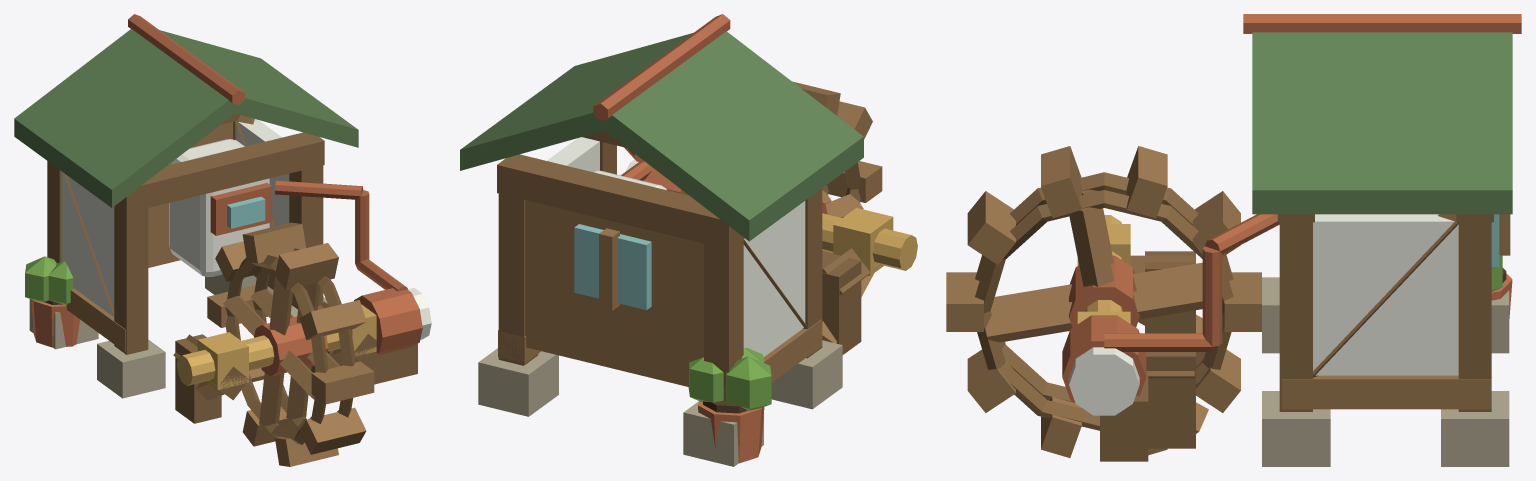
Rendered from water_wheel.glb.
The picture shows the model from 3 angles, left to right: view 1: azimuth 30°, elevation 25°; view 2: azimuth 150°, elevation 25°; view 3: azimuth 270°, elevation 25°; orthographic projection. The views are drawn at different scales.
Visible parts, largest first — view 1: move_spin_wheel, Waterwheel_moss_roof_left, Waterwheel_dynamo_and_conduit, Waterwheel_front_lintel, Waterwheel_moss_roof_right, Waterwheel_bank_bearings, Waterwheel_side_wall, Waterwheel_control_cabinet, Waterwheel_timber_post, Waterwheel_stone_shoe, Waterwheel_copper_ridge, Waterwheel_axle (+13 smaller); view 2: Waterwheel_moss_roof_left, Waterwheel_back_wall, Waterwheel_back_lintel, Waterwheel_moss_roof_right, Waterwheel_side_wall, Waterwheel_bank_bearings, Waterwheel_timber_post.001, Waterwheel_timber_post.003, Waterwheel_back_window, Waterwheel_stone_shoe.003, move_spin_wheel, Waterwheel_stone_shoe (+13 smaller); view 3: Waterwheel_moss_roof_right, move_spin_wheel, Waterwheel_side_wall.001, Waterwheel_dynamo_and_conduit, Waterwheel_bank_bearings, Waterwheel_side_sill.001, Waterwheel_timber_post.002, Waterwheel_timber_post.003, Waterwheel_copper_ridge, Waterwheel_stone_shoe.003, Waterwheel_stone_shoe.002, Waterwheel_stone_shoe (+2 smaller).
Part boxes in pixels (x1,y1,x2,y2): move_spin_wheel: (207, 222, 374, 466); Waterwheel_moss_roof_left: (14, 29, 235, 207); Waterwheel_dynamo_and_conduit: (275, 180, 431, 384); Waterwheel_front_lintel: (116, 132, 324, 212); Waterwheel_moss_roof_right: (160, 30, 358, 147); Waterwheel_bank_bearings: (173, 301, 378, 423); Waterwheel_side_wall: (61, 171, 114, 317); Waterwheel_control_cabinet: (169, 139, 269, 276); Waterwheel_timber_post: (114, 205, 148, 354); Waterwheel_stone_shoe: (97, 339, 165, 398); Waterwheel_copper_ridge: (128, 14, 244, 105); Waterwheel_axle: (177, 332, 340, 385); Waterwheel_moss_roof_left: (604, 31, 863, 241); Waterwheel_back_wall: (525, 200, 703, 386); Waterwheel_back_lintel: (497, 154, 744, 249); Waterwheel_moss_roof_right: (460, 33, 692, 170); Waterwheel_side_wall: (743, 201, 805, 357); Waterwheel_bank_bearings: (683, 191, 893, 354); Waterwheel_timber_post.001: (704, 239, 743, 400); Waterwheel_timber_post.003: (498, 193, 538, 365); Waterwheel_back_window: (574, 224, 651, 310); Waterwheel_stone_shoe.003: (478, 348, 558, 416); move_spin_wheel: (792, 81, 882, 257); Waterwheel_stone_shoe: (771, 340, 842, 409); Waterwheel_moss_roof_right: (1252, 32, 1512, 214); move_spin_wheel: (946, 146, 1261, 457); Waterwheel_side_wall.001: (1313, 214, 1458, 375); Waterwheel_dynamo_and_conduit: (1062, 214, 1279, 461); Waterwheel_bank_bearings: (1077, 224, 1208, 448); Waterwheel_side_sill.001: (1282, 375, 1491, 409); Waterwheel_timber_post.002: (1279, 222, 1312, 411); Waterwheel_timber_post.003: (1458, 222, 1491, 411); Waterwheel_copper_ridge: (1243, 14, 1521, 33); Waterwheel_stone_shoe.003: (1441, 391, 1509, 466); Waterwheel_stone_shoe.002: (1262, 391, 1330, 466); Waterwheel_stone_shoe: (1262, 277, 1279, 353).
Bounding box in the file's own units: 1.78 × 2.14 × 2.61.
